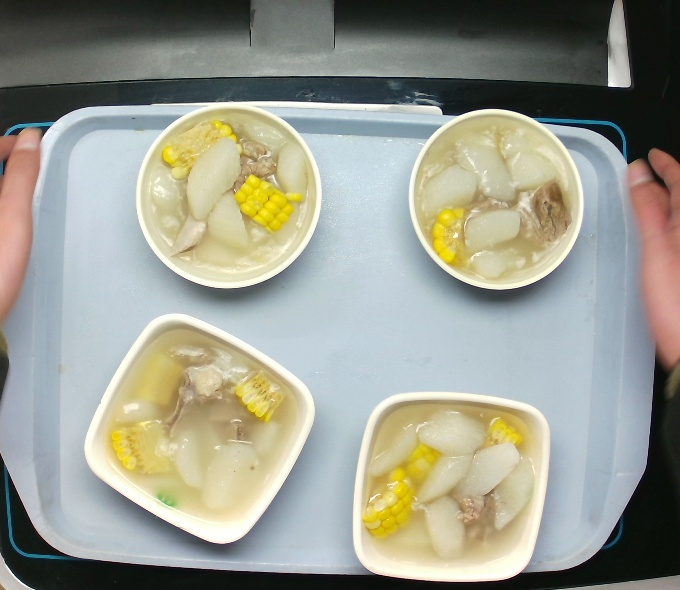wcq-ShanYaoYuMiTang: (99, 323, 300, 526), (137, 105, 320, 283), (359, 395, 539, 573), (412, 110, 583, 286)
